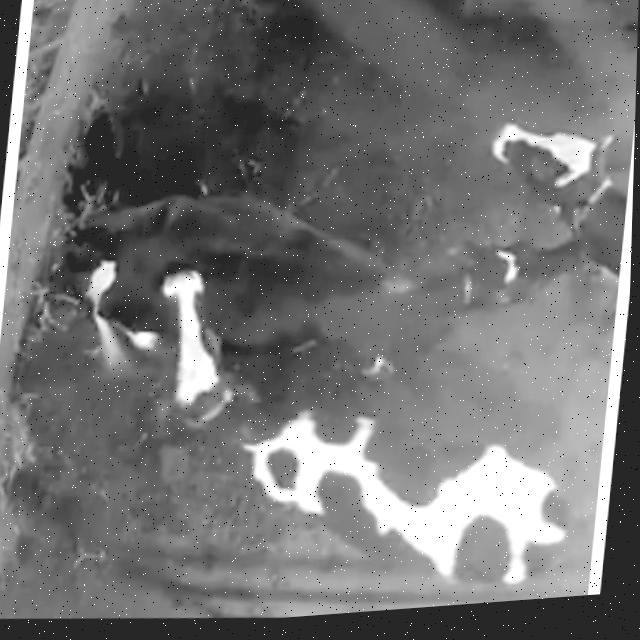propping: (136, 232, 273, 460)
